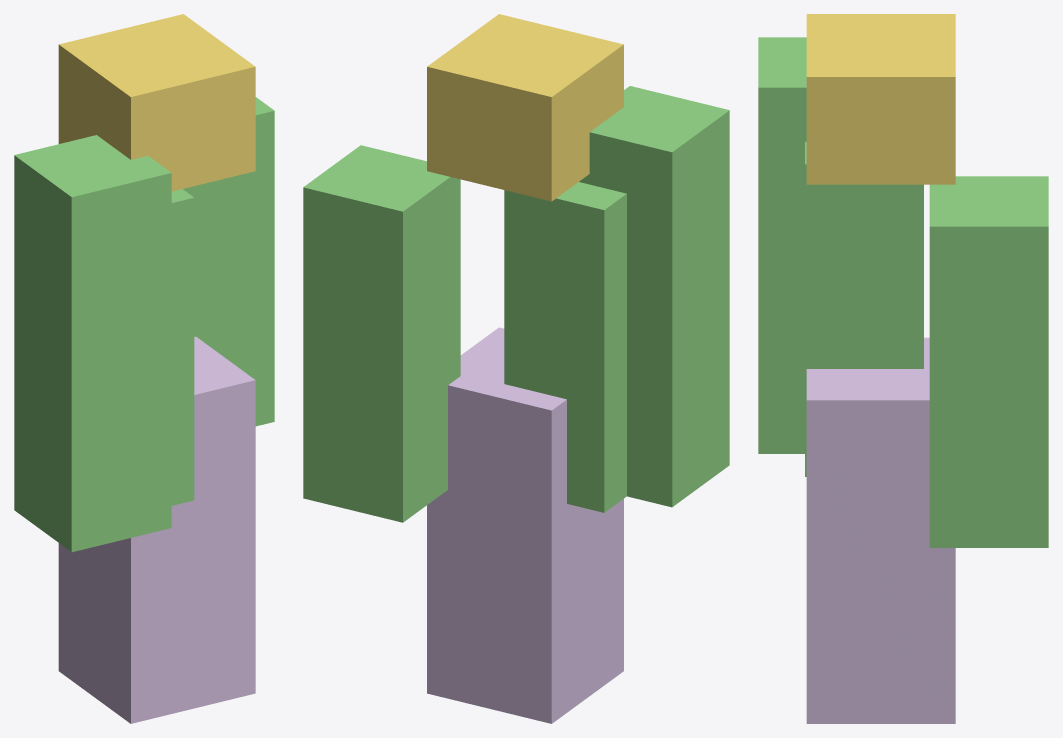
The model's file is Item_Herb_AMF_Wagwort_Bundle2.glb.
3 renders of one model, left to right at view 1: azimuth 30°, elevation 25°; view 2: azimuth 150°, elevation 25°; view 3: azimuth 270°, elevation 25°, orthographic. The views are drawn at different scales.
Parts seen in each view (by area): view 1: Item_Herb_AMF_Wagwort_Bundle2; view 2: Item_Herb_AMF_Wagwort_Bundle2; view 3: Item_Herb_AMF_Wagwort_Bundle2.
Boxes of the visible parts, box(x1,y1,x2,y2) form: Item_Herb_AMF_Wagwort_Bundle2: box(14, 14, 274, 723); Item_Herb_AMF_Wagwort_Bundle2: box(303, 14, 729, 723); Item_Herb_AMF_Wagwort_Bundle2: box(758, 14, 1048, 723).
Bounding box in the file's own units: 0.1146 × 0.24 × 0.0976.
